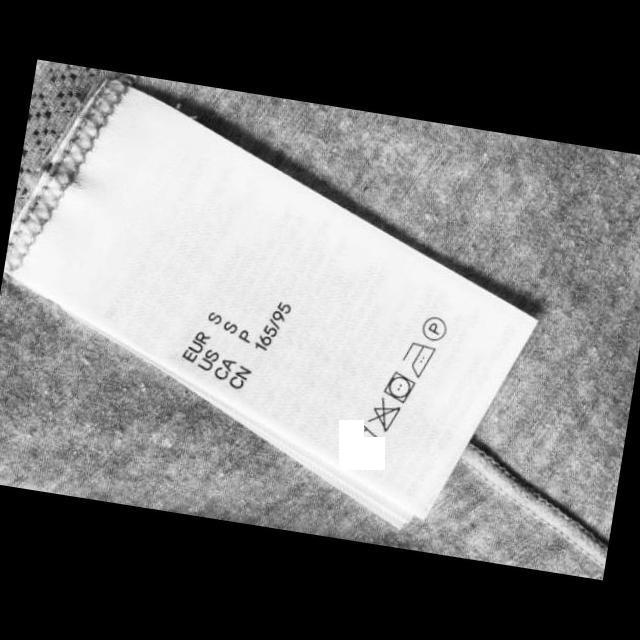DN_bleach: (364, 394, 404, 436)
iron_medium: (398, 340, 438, 382)
normal_dry_clean_solvents: (418, 314, 449, 344)
tumble_dry_medium: (381, 368, 418, 407)
